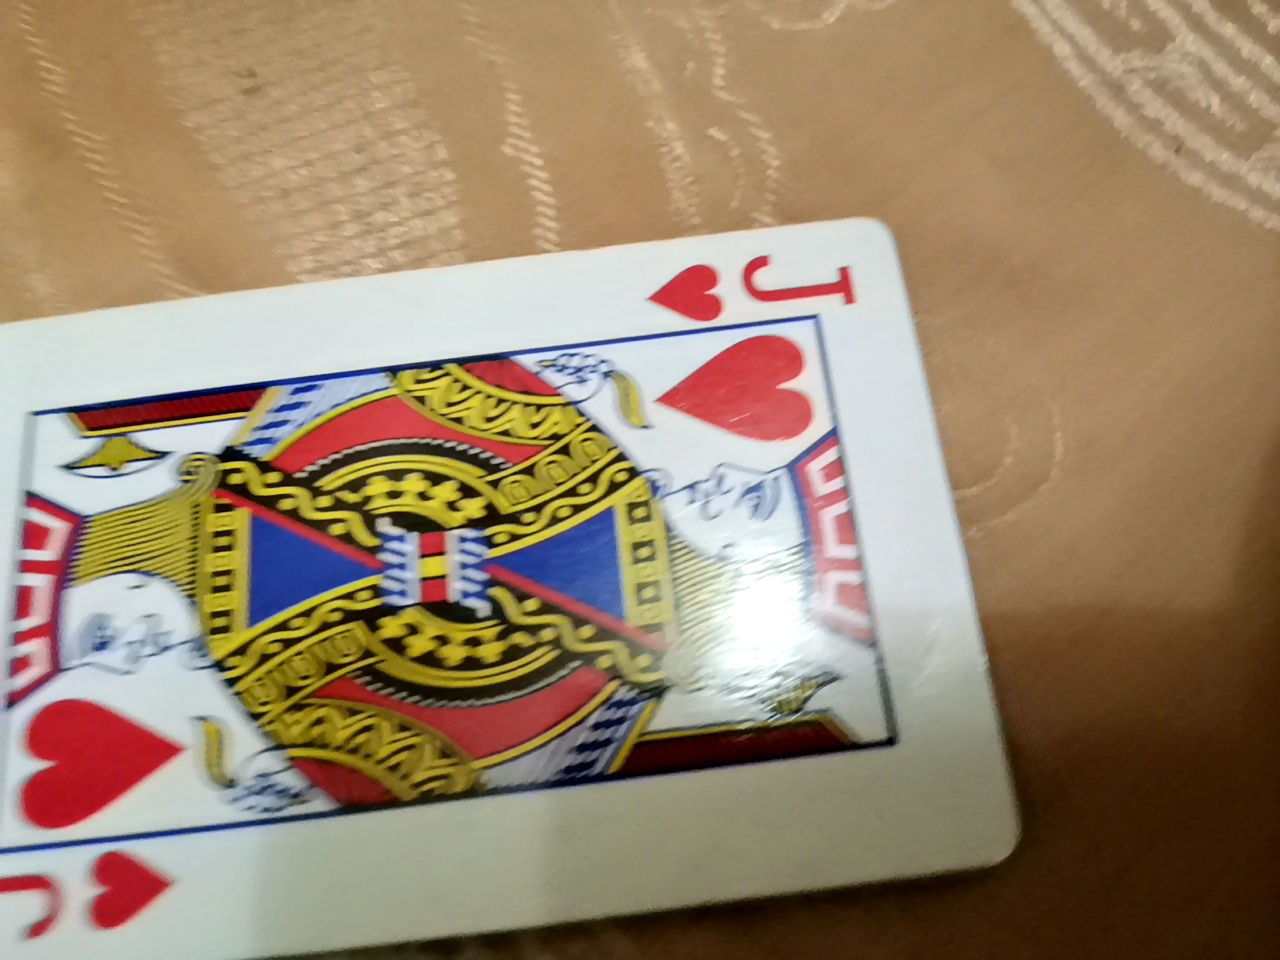hx j: (45, 215, 1065, 947)
